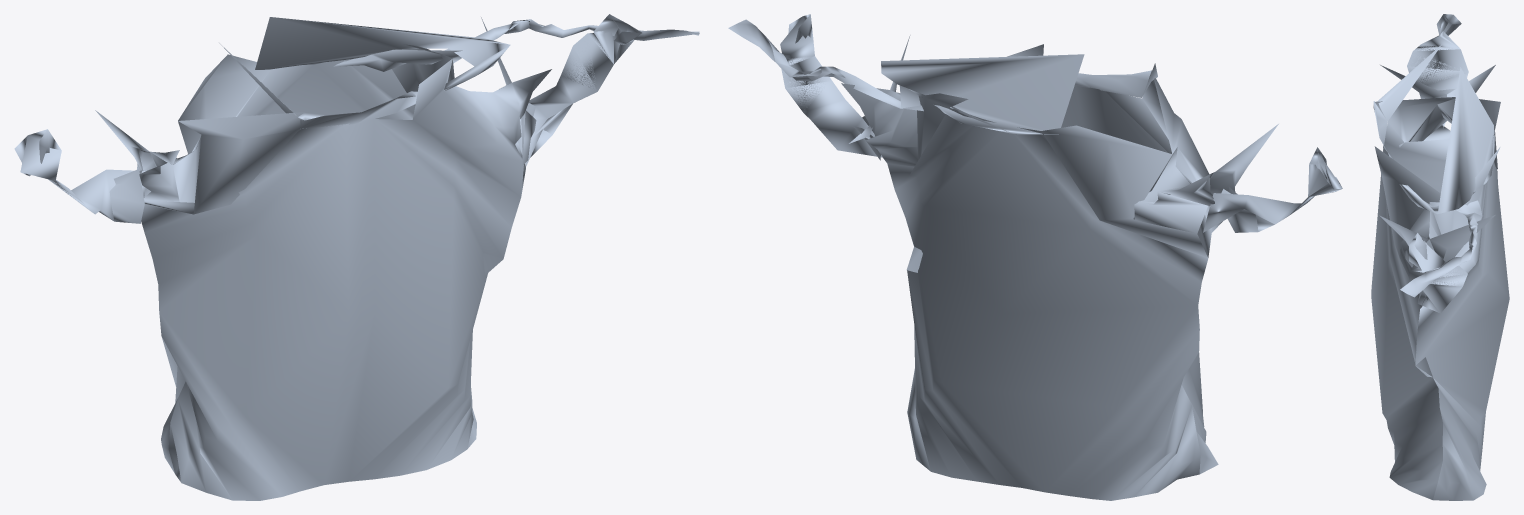
Rendered from frame_007.glb.
The picture shows the model from 3 angles, left to right: view 1: azimuth 30°, elevation 25°; view 2: azimuth 150°, elevation 25°; view 3: azimuth 270°, elevation 25°; orthographic projection. The views are drawn at different scales.
Parts seen in each view (by area): view 1: panel.front, panel.back, panel.neck_band, panel.sleeve.right, panel.sleeve.left; view 2: panel.back, panel.neck_band, panel.front, panel.sleeve.right, panel.sleeve.left; view 3: panel.front, panel.back, panel.neck_band, panel.sleeve.left, panel.sleeve.right.
Part boxes in pixels (<box>): panel.front: <box>139,59,551,500</box>; panel.back: <box>95,17,525,473</box>; panel.neck_band: <box>219,17,699,128</box>; panel.sleeve.right: <box>517,14,641,166</box>; panel.sleeve.left: <box>14,129,145,223</box>; panel.back: <box>841,83,1215,500</box>; panel.neck_band: <box>728,19,1157,134</box>; panel.front: <box>890,35,1278,473</box>; panel.sleeve.right: <box>780,14,885,161</box>; panel.sleeve.left: <box>1203,147,1342,232</box>; panel.front: <box>1371,65,1455,499</box>; panel.back: <box>1415,65,1509,500</box>; panel.neck_band: <box>1373,44,1494,297</box>; panel.sleeve.left: <box>1407,14,1468,127</box>; panel.sleeve.right: <box>1408,233,1467,313</box>.
Bounding box in the file's own units: 1.2 × 0.8025 × 0.2714.
